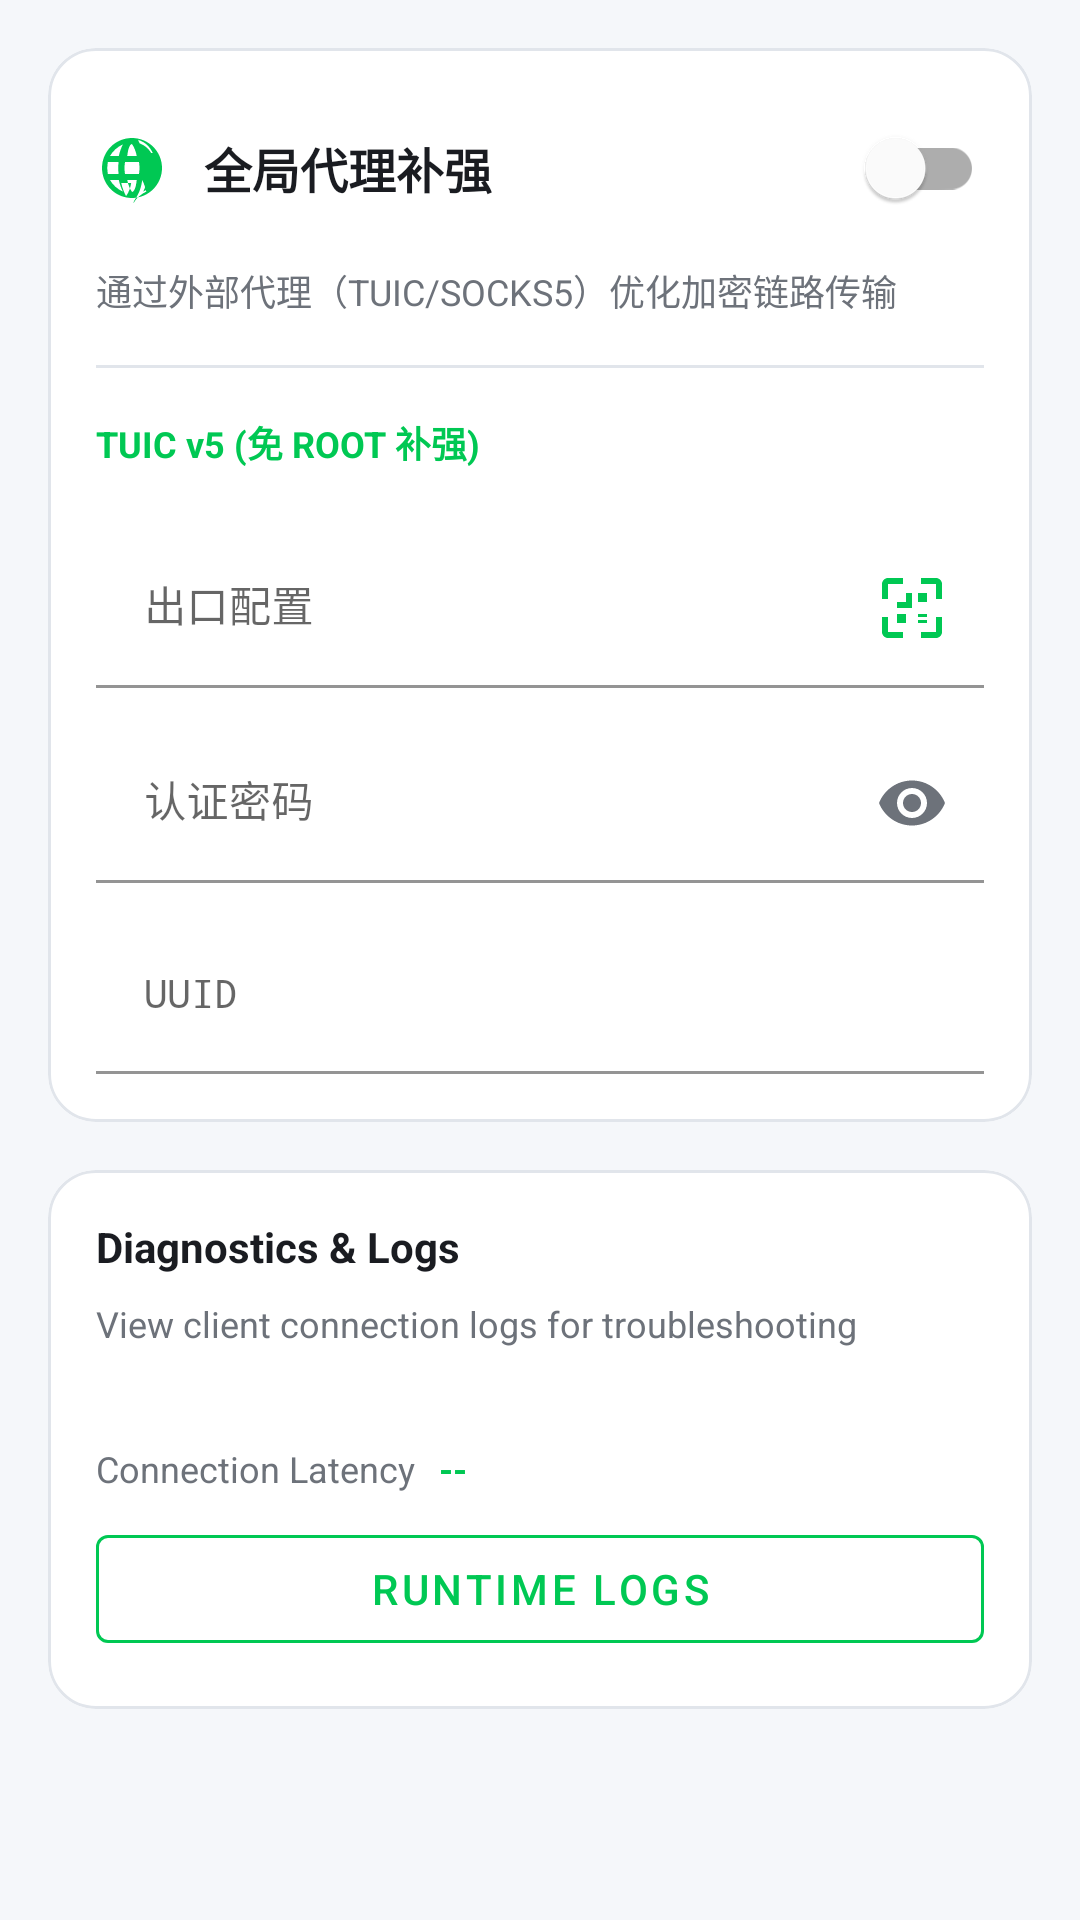

Icon click points for this 1080w x 1920h phone screenshot, format [x,y]:
globe: [132,170]
